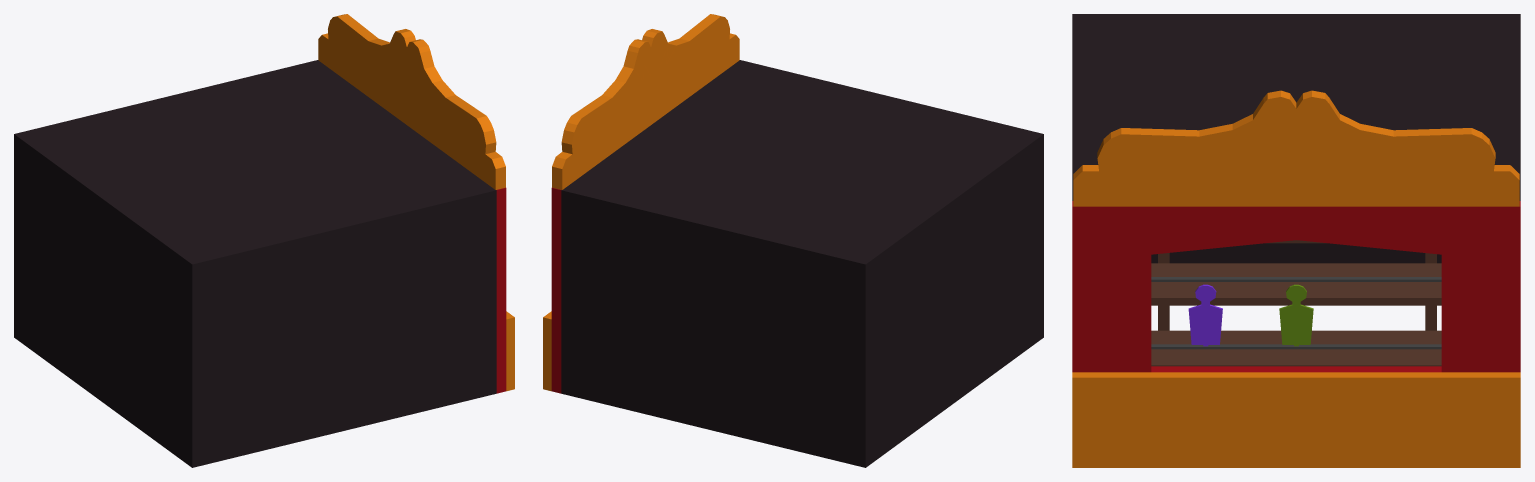
Rendered from LVR_ShootingGallery_GB.fbx.
3 views of the same model, side by side, from view 1: azimuth 30°, elevation 25°; view 2: azimuth 150°, elevation 25°; view 3: azimuth 270°, elevation 25° (orthographic). The views are drawn at different scales.
Visible parts, largest first — view 1: Gallery bounds; view 2: Gallery bounds; view 3: Gallery bounds, Shelves, Alien Target, Astronaut Target.
Part boxes in pixels (x1,y1,x2,y2): Gallery bounds: [14, 14, 514, 467]; Gallery bounds: [543, 14, 1043, 467]; Gallery bounds: [1072, 14, 1520, 467]; Shelves: [1151, 240, 1441, 366]; Alien Target: [1279, 284, 1313, 346]; Astronaut Target: [1188, 284, 1222, 346].
Size of the model in its own units: 438 by 377 by 419.
